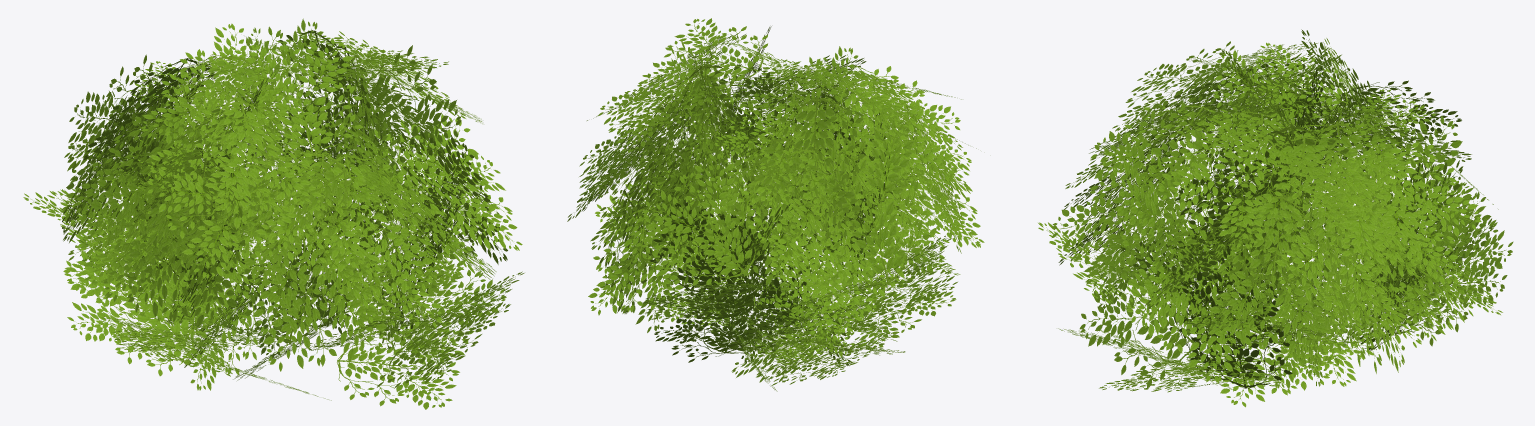
The model's file is s_shrub.glb.
3 renders of one model, left to right at view 1: azimuth 30°, elevation 25°; view 2: azimuth 150°, elevation 25°; view 3: azimuth 270°, elevation 25°, orthographic. The views are drawn at different scales.
Bounding box in the file's own units: 1.53 × 1.26 × 1.68.
Materials: 1 (1 with a texture image).
